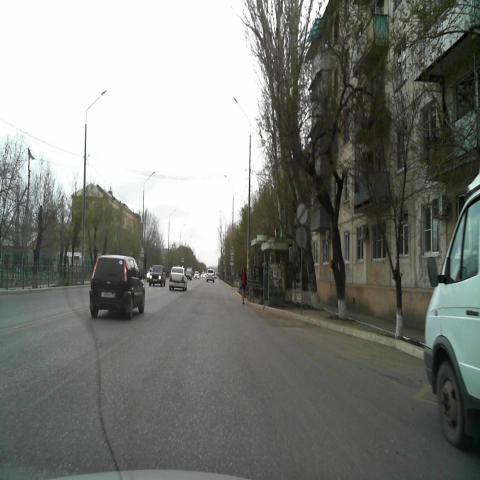3_31: (296, 202, 308, 225)
